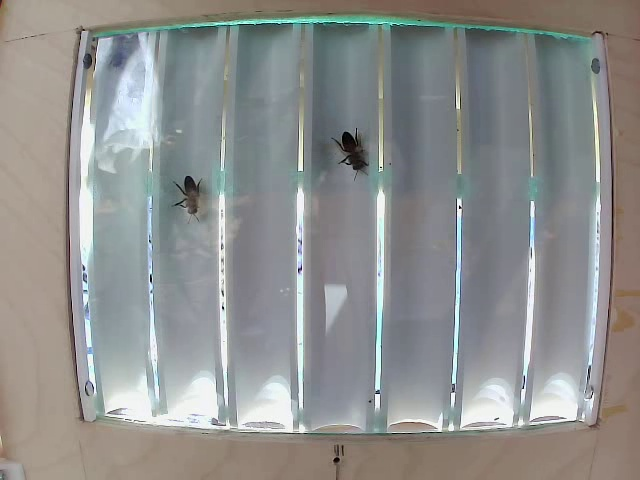bee: (332, 125, 381, 193), (165, 175, 210, 236)
